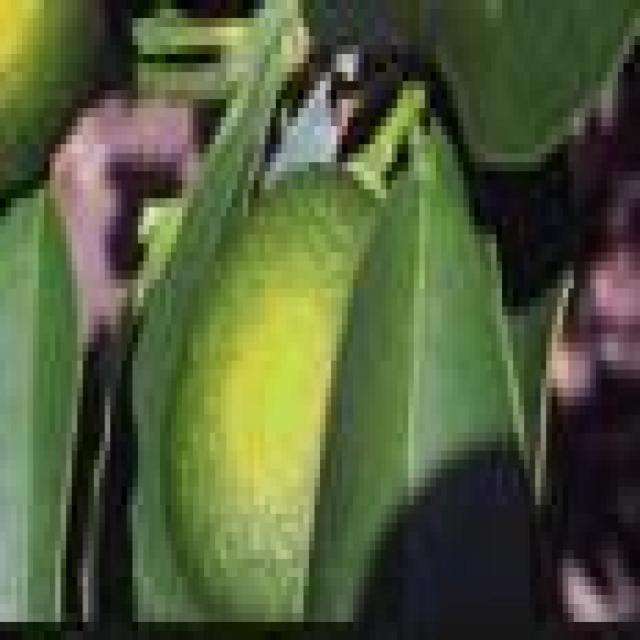Sunscald Fruit: (140, 156, 224, 355)
